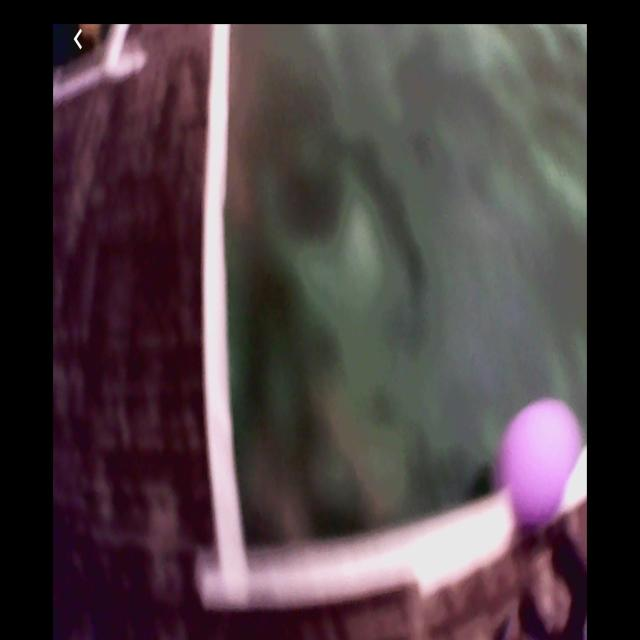ball: (498, 400, 586, 532)
